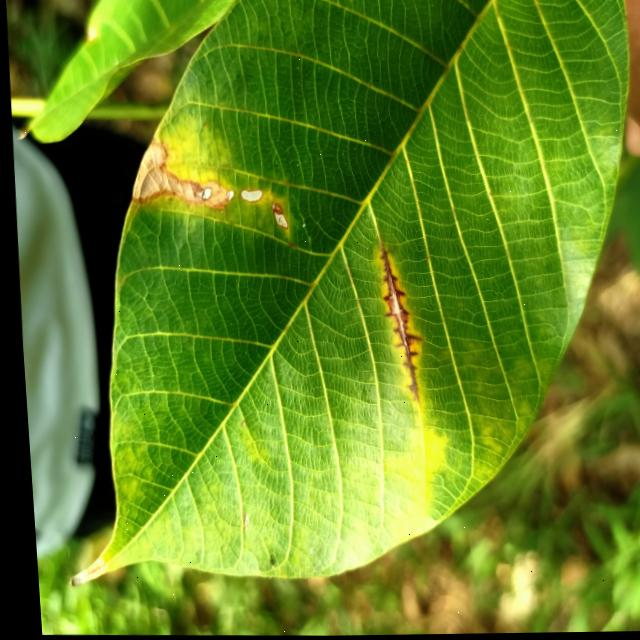Corynespora: (371, 244, 422, 402)
Leaf-Blight: (125, 136, 234, 211), (268, 202, 285, 228), (237, 189, 260, 200)
